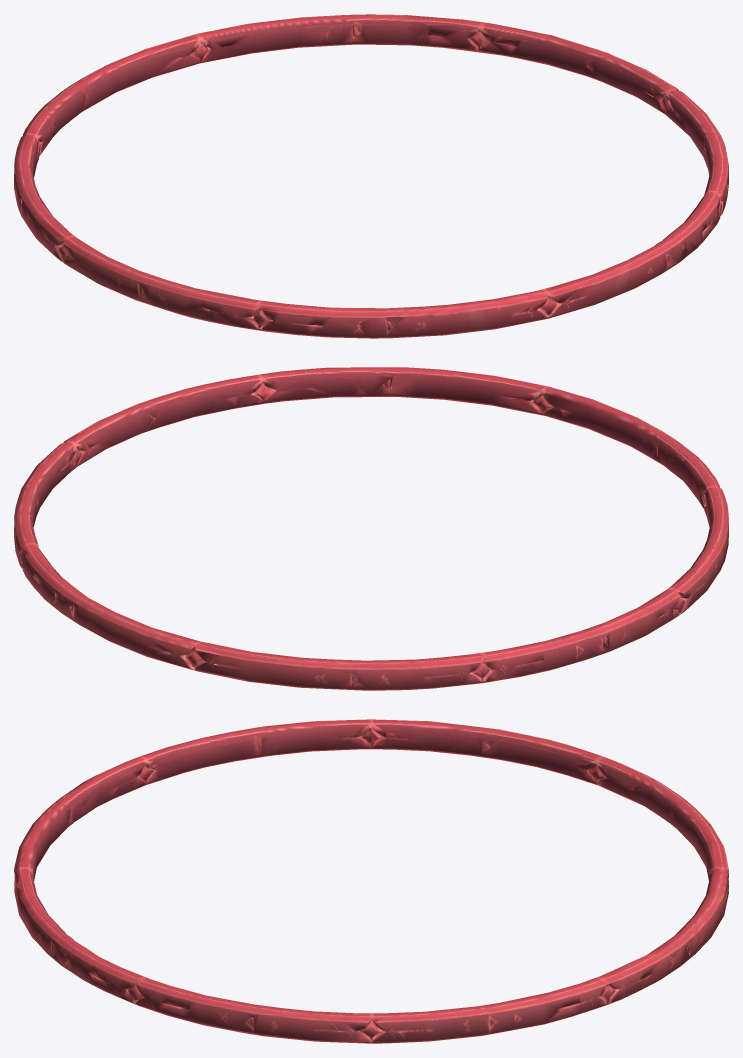
Rendered from aura-ember.glb.
The picture shows the model from 3 angles, top to bottom: view 1: azimuth 30°, elevation 25°; view 2: azimuth 150°, elevation 25°; view 3: azimuth 270°, elevation 25°; orthographic projection.
Visible parts, largest first — view 1: mesh_0; view 2: mesh_0; view 3: mesh_0.
Boxes of the visible parts, box(x1,y1,x2,y2) form: mesh_0: box(14, 14, 728, 338); mesh_0: box(14, 367, 728, 690); mesh_0: box(14, 719, 728, 1043).
Size of the model in its own units: 2 by 0.0841 by 2.
1 material, 1 textured.
